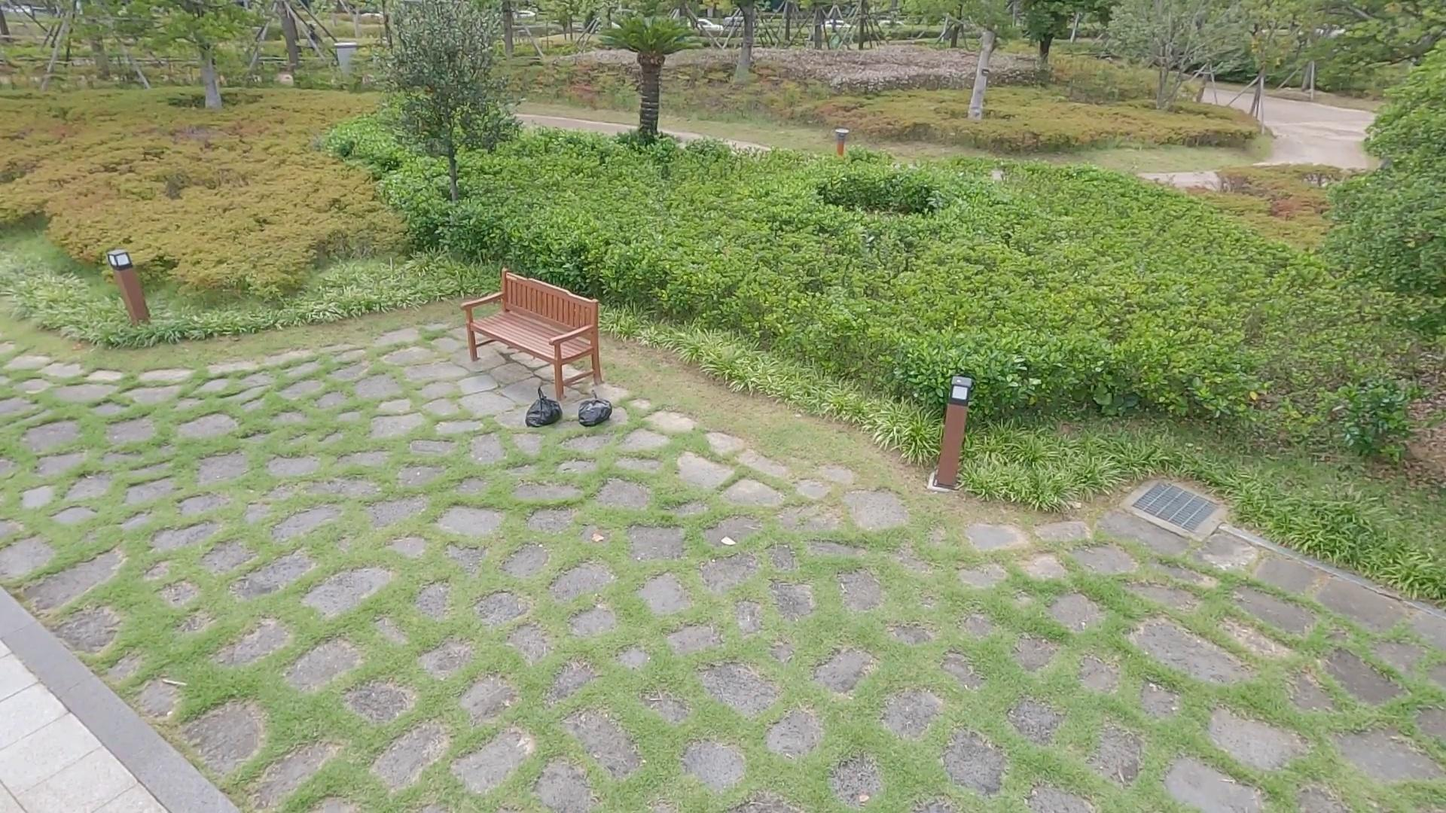trash: (526, 384, 563, 429), (579, 387, 610, 427)
